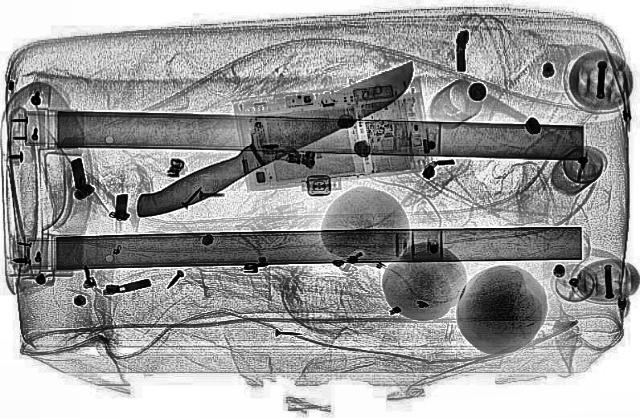Knife: (114, 50, 436, 228)
